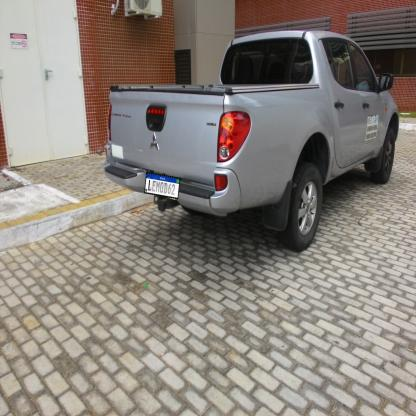PlacaM: (144, 172, 180, 199)
